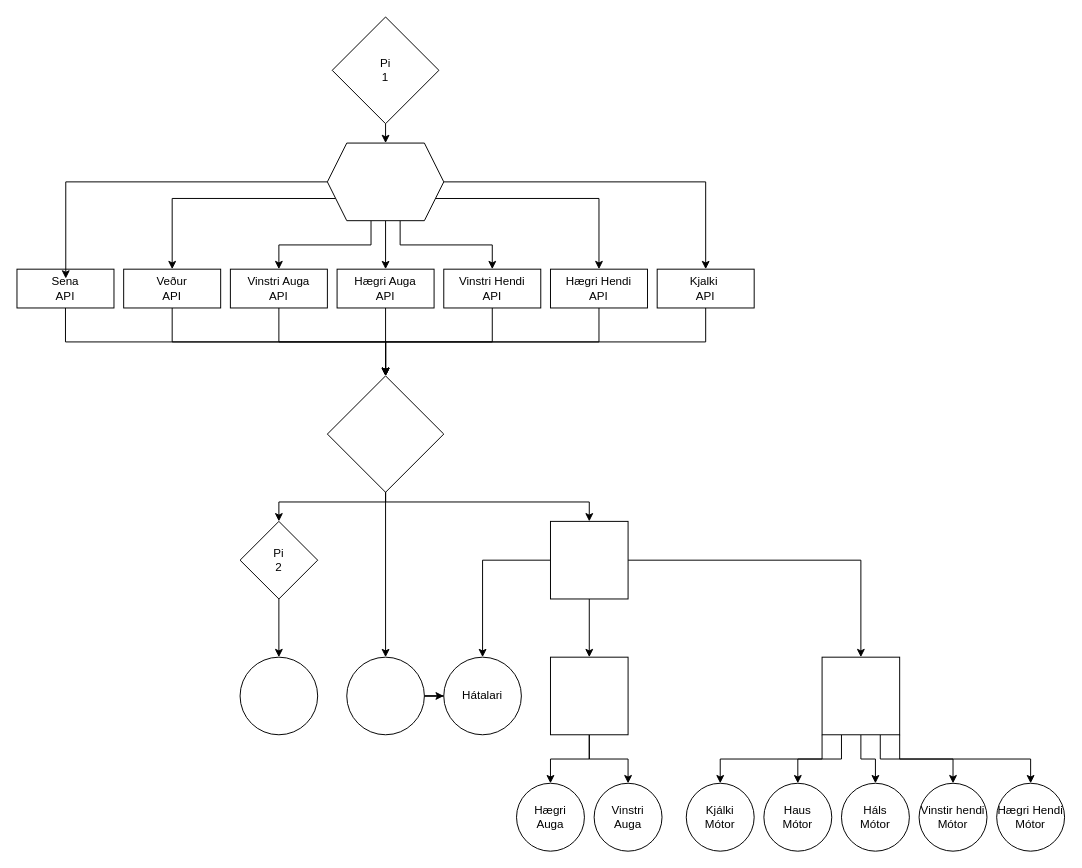
This 1082x868 diagram has some shape labels left out. The shapes that lost their labels are listed below. From the top down, each one's centre as x and y in pixels, then its label:
(x=385, y=181): Node Red
(x=385, y=433): ESP32
(x=589, y=559): Beinagrind
(x=278, y=695): Skjár
(x=385, y=695): DF Player
(x=589, y=695): Augu
(x=860, y=695): Mótorar
